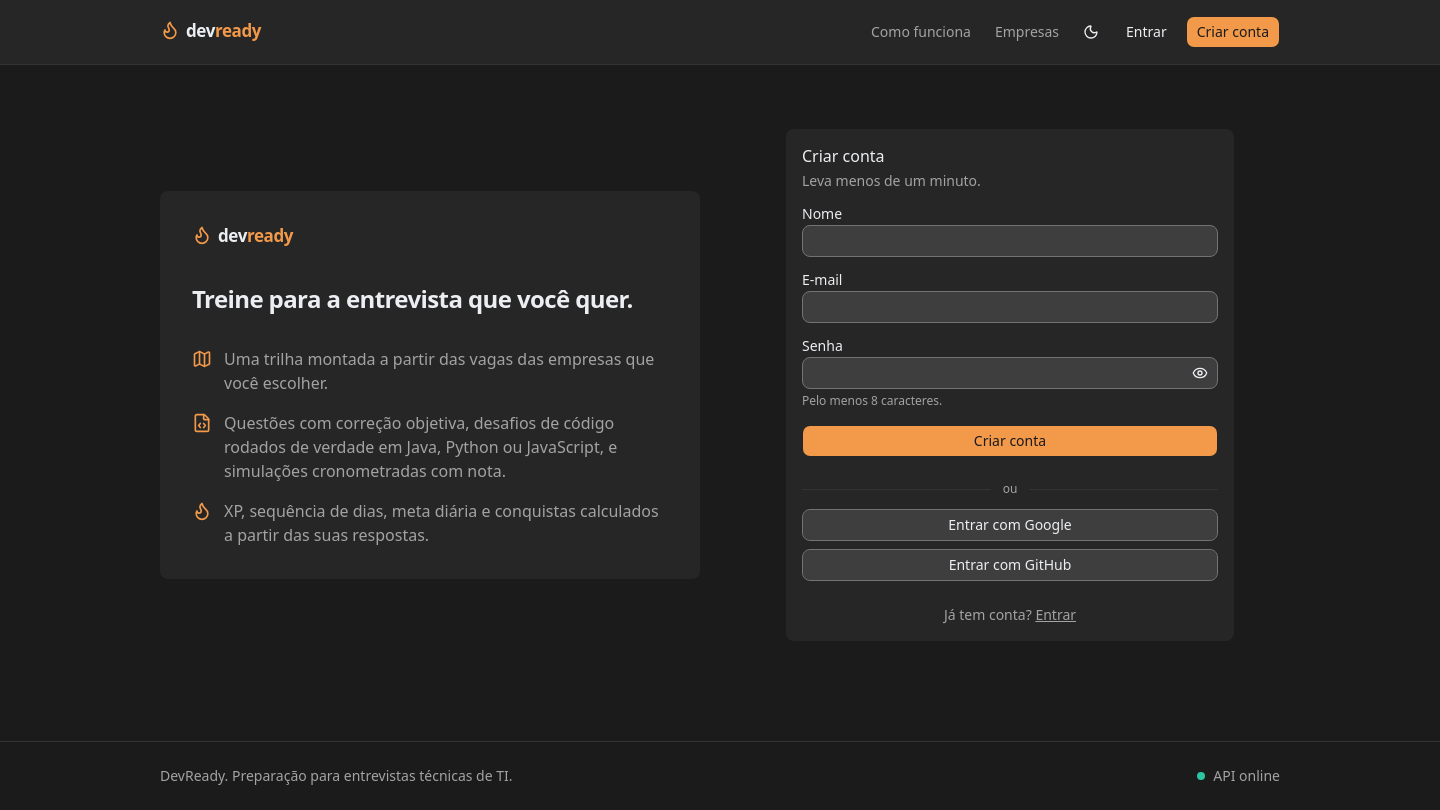
Test: RegisterPage › mostra senha curta antes de enviar e e-mail duplicado vindo da API
Type "Ana" into the field labelled "Nome" at (1010,241), box [802,225,1218,257]
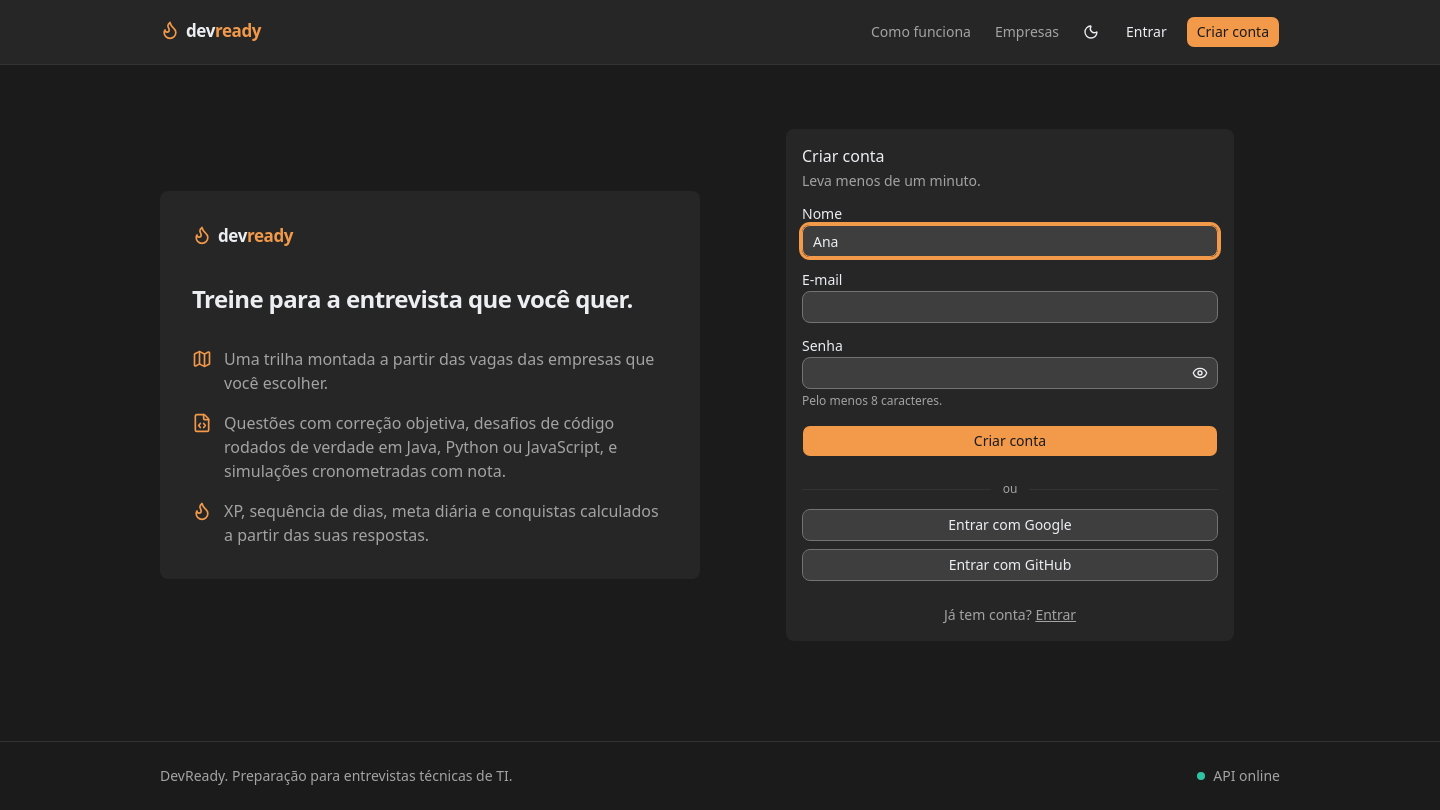
Type "ana@example.com" into the field labelled "E-mail" at (1010,307), box [802,291,1218,323]
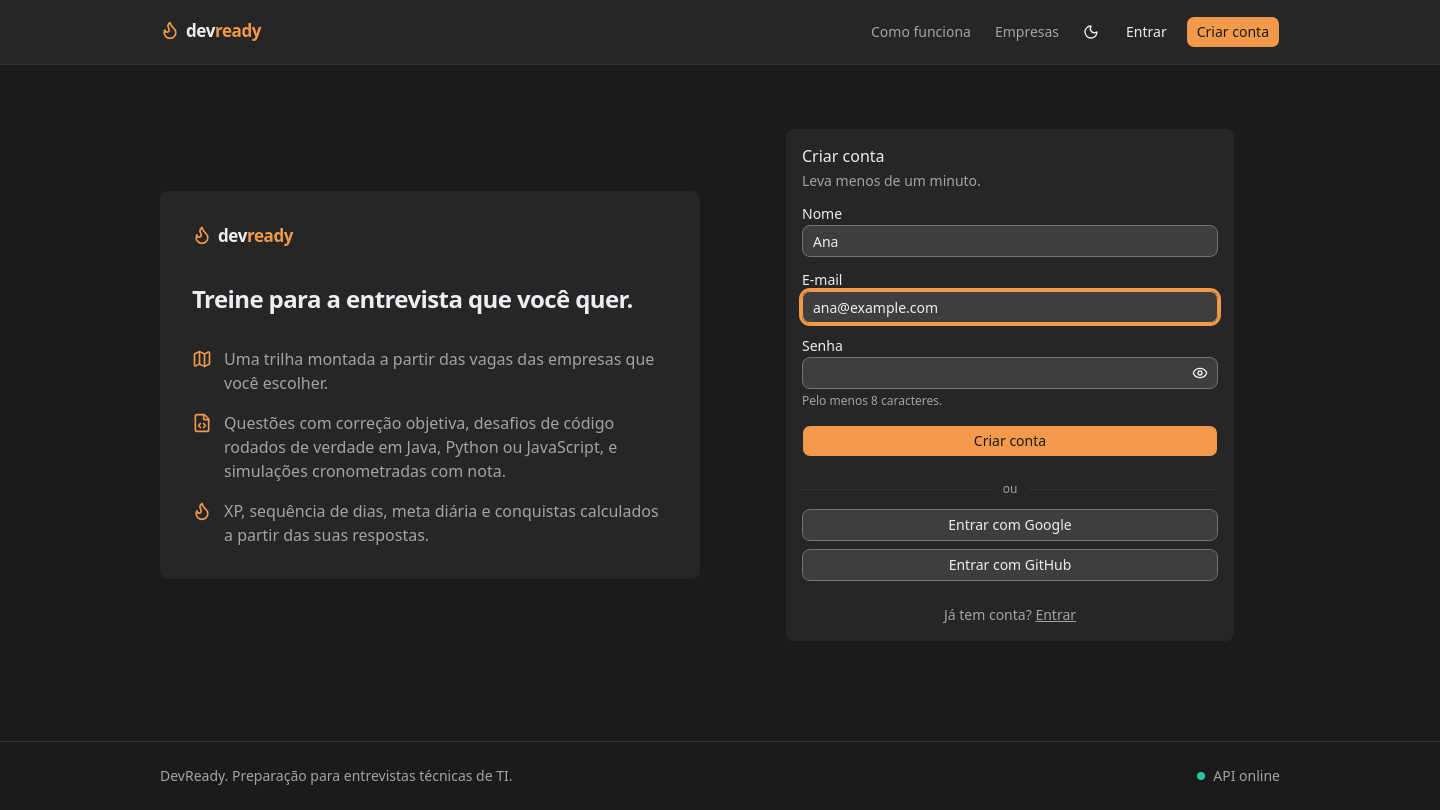
Type "curta" into the password field labelled "Senha" at (1010,373), box [802,357,1218,389]
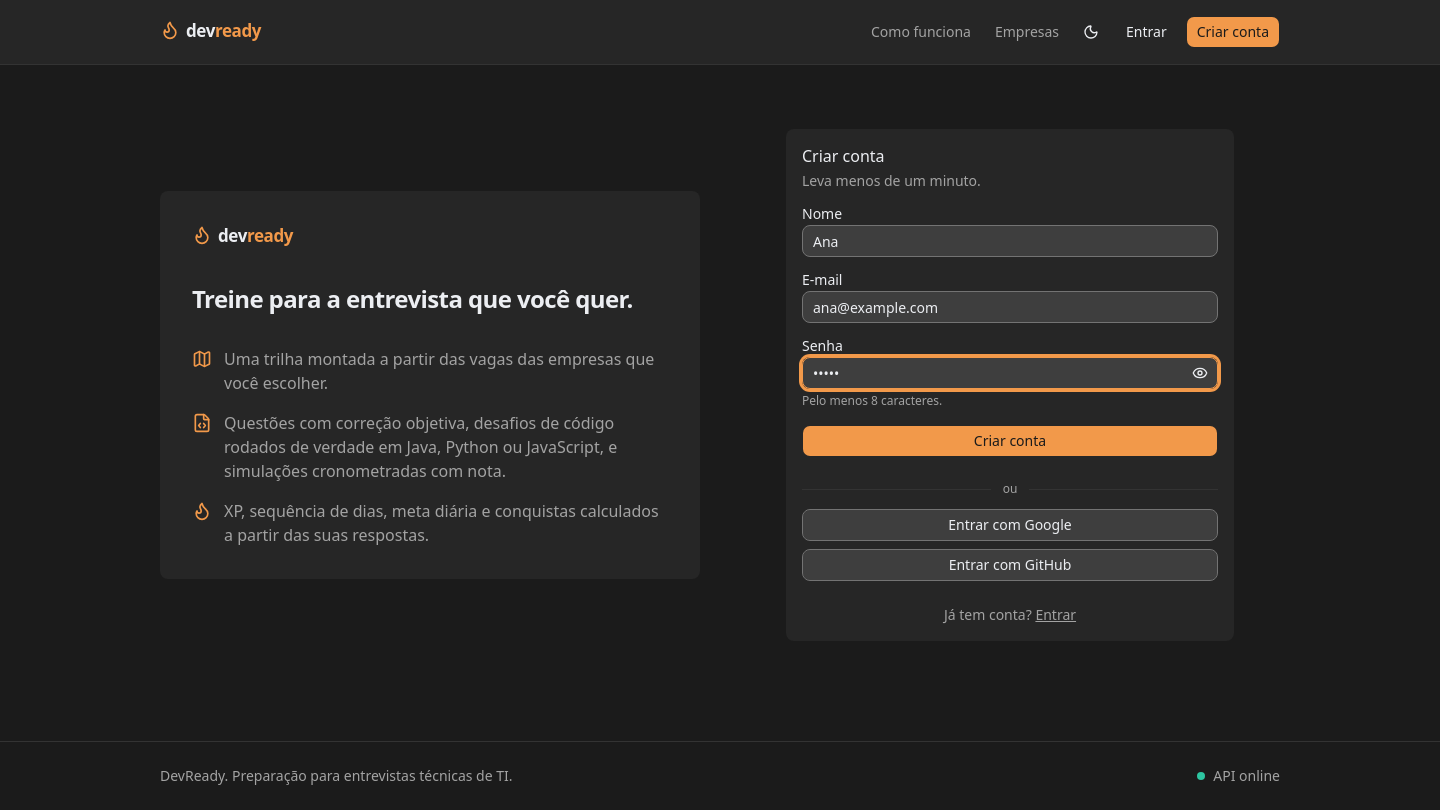
Click the button "Criar conta" at (1010,441), box [802,425,1218,457]
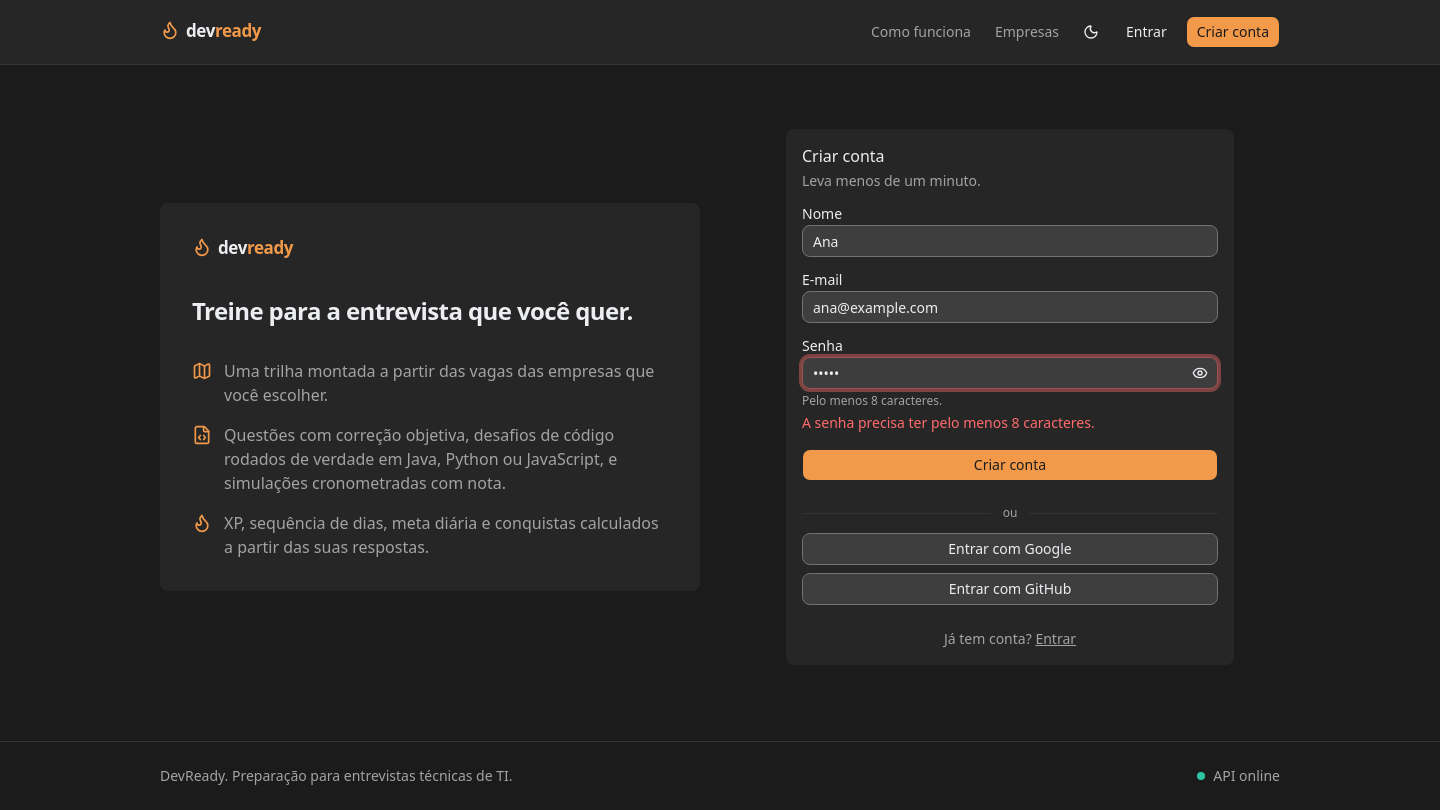
Check: the text "A senha precisa ter pelo menos 8 caracteres." is shown, box [802,413,1095,432]
Type "senha-forte" into the password field labelled "Senha" at (1010,373), box [802,357,1218,389]
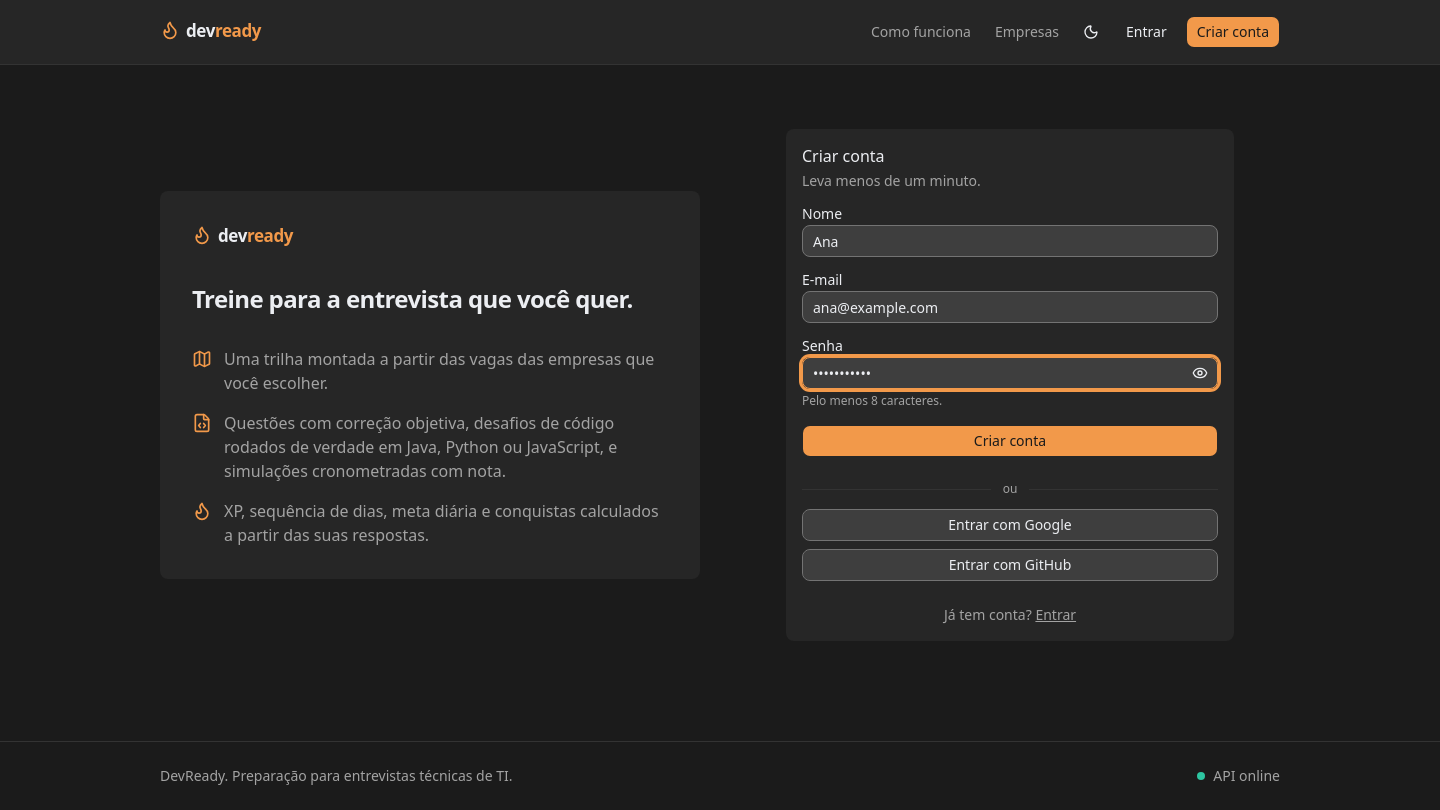
Click the button "Criar conta" at (1010,441), box [802,425,1218,457]
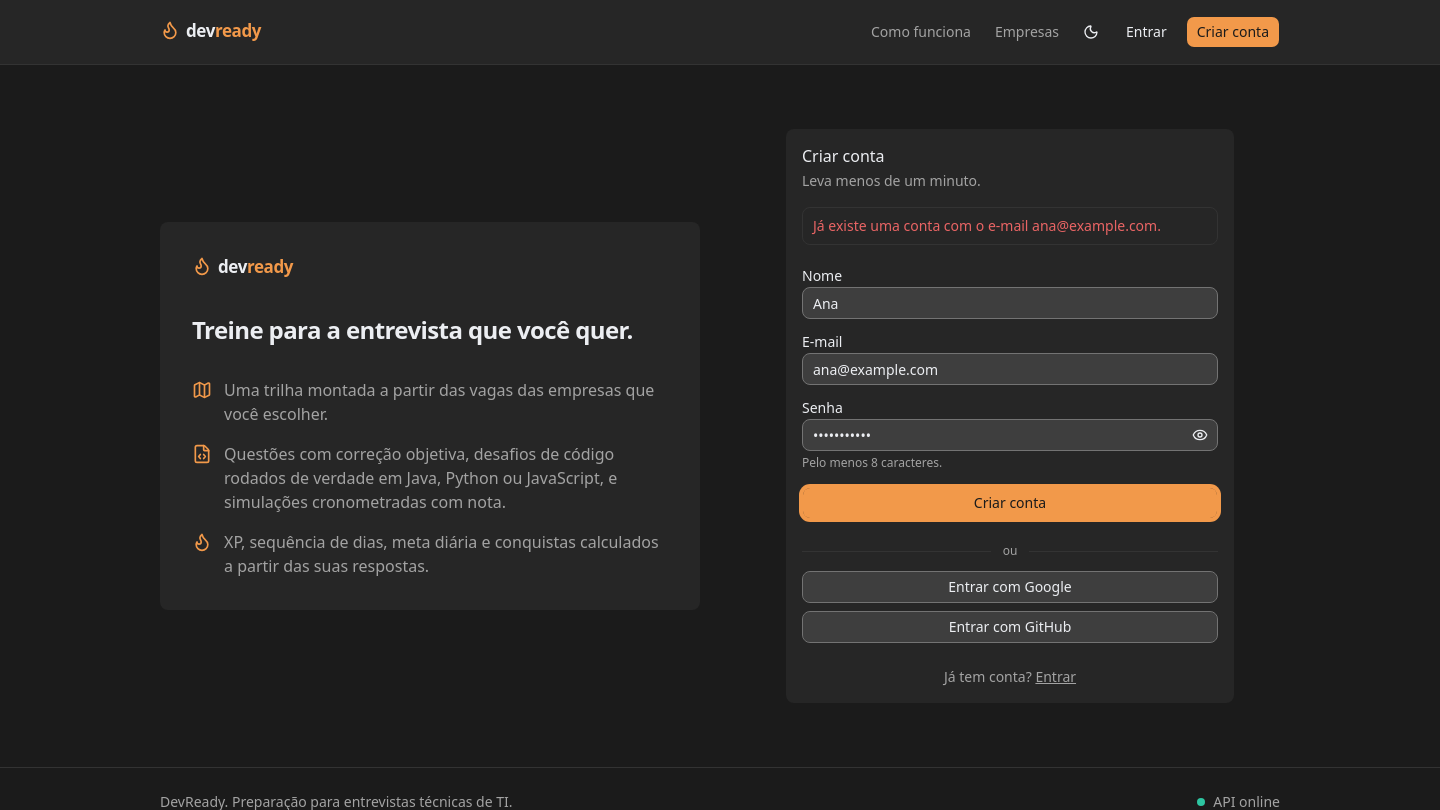
Check: the message shows "Já existe uma conta", box [813,216,1161,235]
